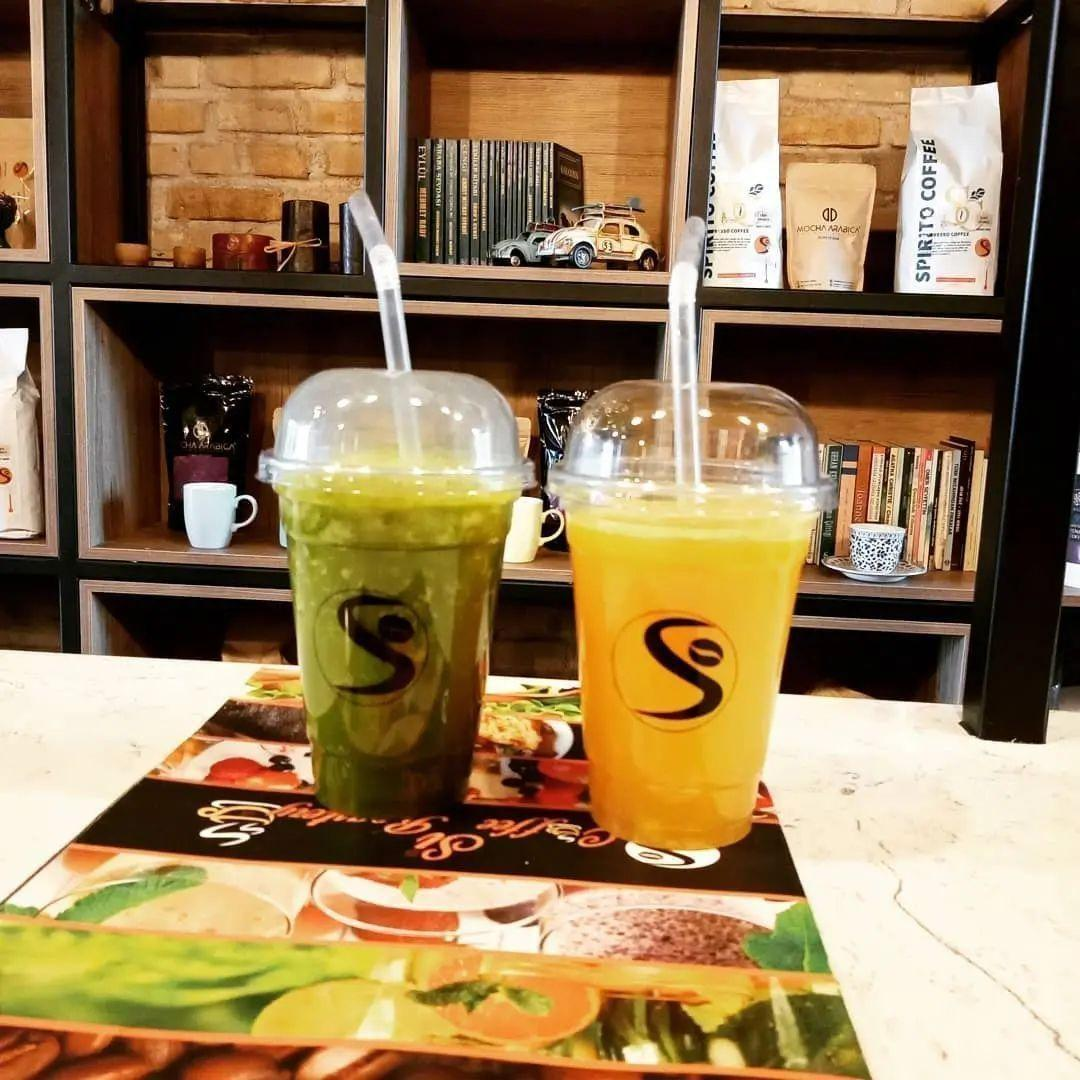cup-disposable: (544, 376, 832, 855), (254, 358, 536, 823)
